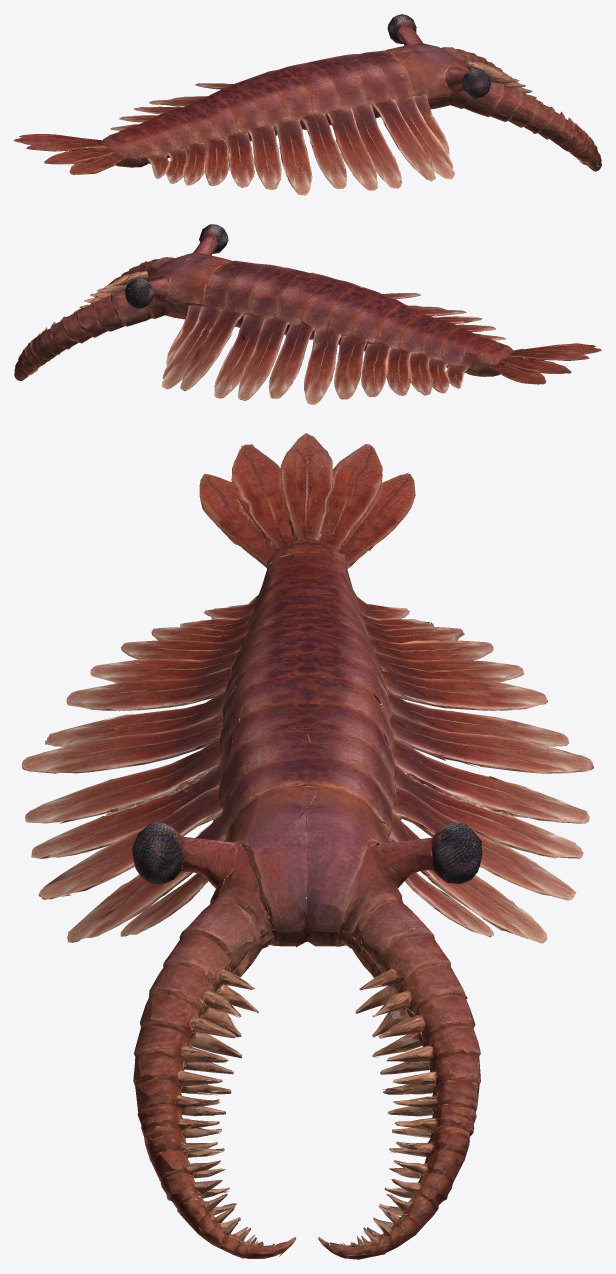
Rendered from anomalocaris.glb.
The picture shows the model from 3 angles, top to bottom: view 1: azimuth 30°, elevation 25°; view 2: azimuth 150°, elevation 25°; view 3: azimuth 270°, elevation 25°; orthographic projection. The views are drawn at different scales.
Visible parts, largest first — view 1: Mesh_0; view 2: Mesh_0; view 3: Mesh_0.
Boxes of the visible parts, left/top/right/bottom form: Mesh_0: left=14, top=14, right=601, bottom=195; Mesh_0: left=14, top=224, right=601, bottom=404; Mesh_0: left=21, top=433, right=593, bottom=1259.
Bounding box in the file's own units: 1 × 0.266 × 0.4482.
Materials: 1 (1 with a texture image).
